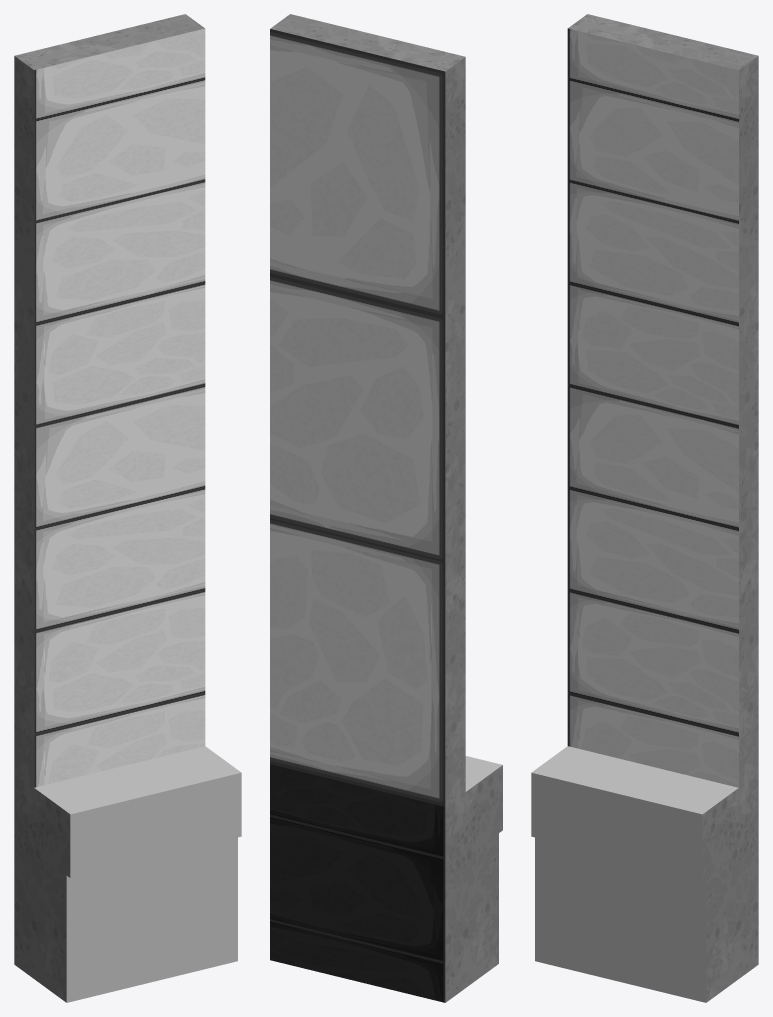
The model's file is SM_Platform_Wall_1m.fbx.
3 renders of one model, left to right at view 1: azimuth 30°, elevation 25°; view 2: azimuth 150°, elevation 25°; view 3: azimuth 330°, elevation 25°, orthographic. The views are drawn at different scales.
Visible parts, largest first — view 1: SM_Platform_Wall_1m; view 2: SM_Platform_Wall_1m; view 3: SM_Platform_Wall_1m.
Boxes of the visible parts, bbox=[...] form: SM_Platform_Wall_1m: bbox=[14, 14, 241, 1002]; SM_Platform_Wall_1m: bbox=[270, 14, 502, 1002]; SM_Platform_Wall_1m: bbox=[531, 14, 758, 1002].
Bounding box in the file's own units: 100 × 507 × 56.78.
